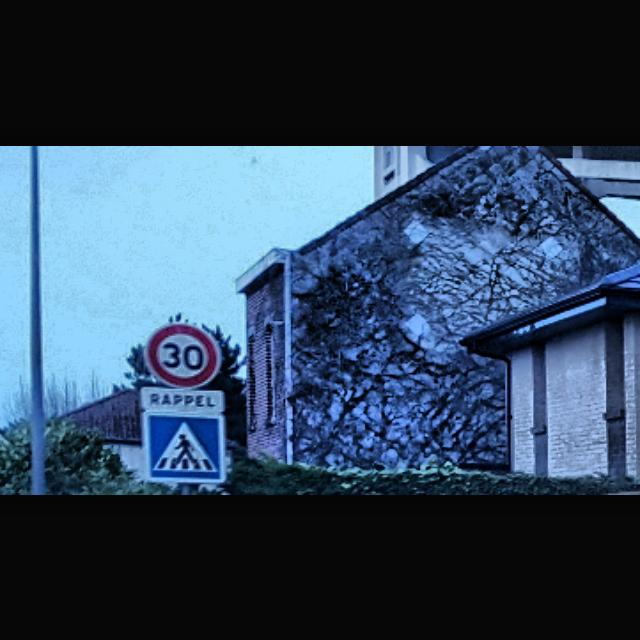speed_30: (146, 323, 220, 387)
